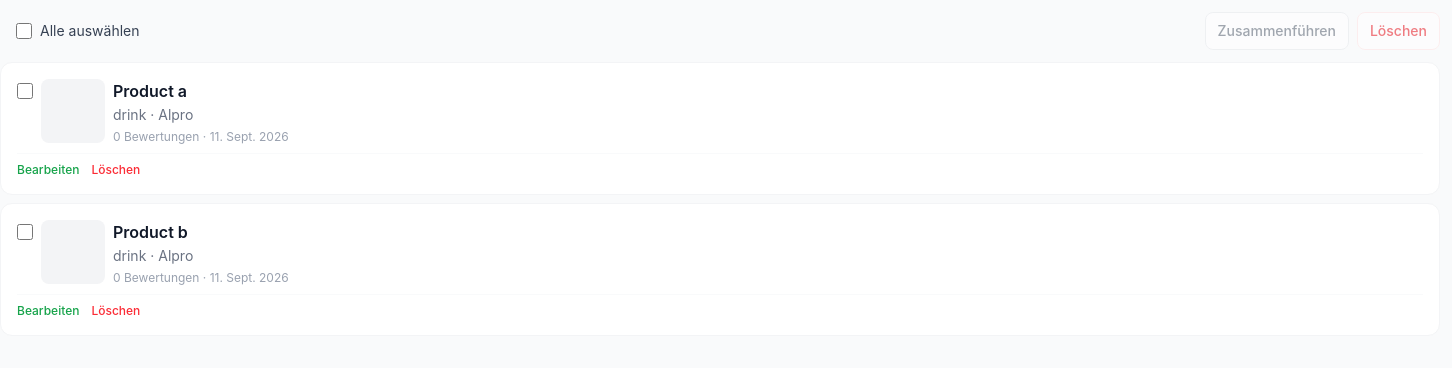
Scenario: AdminProductList › when deleting the selected products after confirming › clears the selection
Step 1. Click the checkbox named "Product a auswählen" → [25, 91], box [17,83,33,99]
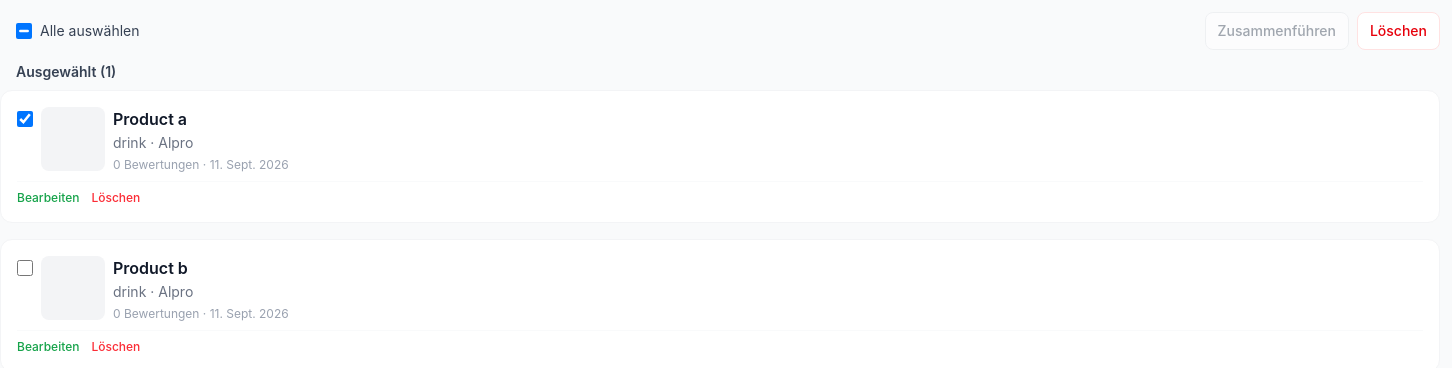
Step 2. Click the button with aria-label "Ausgewählte Produkte löschen" → [1398, 31], box [1357,12,1440,50]
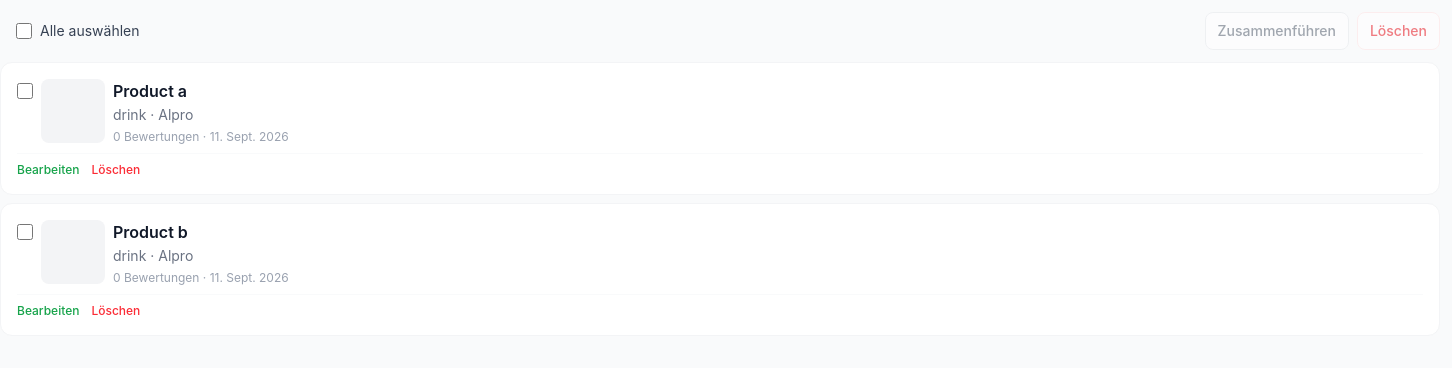
Result: the text "Ausgewählt (" is gone
